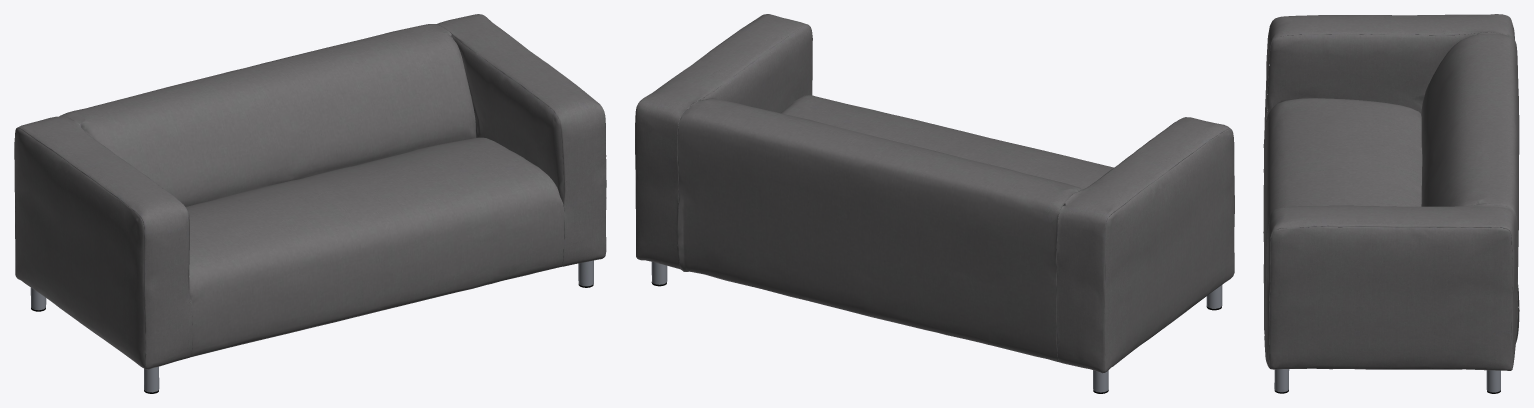
The model's file is klippan_pokrycie_sofy_2_osobowej_20278855.glb.
3 views of the same model, side by side, from view 1: azimuth 30°, elevation 25°; view 2: azimuth 150°, elevation 25°; view 3: azimuth 270°, elevation 25° (orthographic). The views are drawn at different scales.
Visible parts, largest first — view 1: klippan_pokrycie_sofy_2_osobowej_20278855; view 2: klippan_pokrycie_sofy_2_osobowej_20278855; view 3: klippan_pokrycie_sofy_2_osobowej_20278855.
Part boxes in pixels (box(x1,y1,x2,y2)): klippan_pokrycie_sofy_2_osobowej_20278855: box(14, 14, 606, 393); klippan_pokrycie_sofy_2_osobowej_20278855: box(635, 14, 1234, 393); klippan_pokrycie_sofy_2_osobowej_20278855: box(1263, 14, 1519, 393).
Bounding box in the file's own units: 1.8 × 0.6741 × 0.8956.
Materials: 1 (1 with a texture image).
